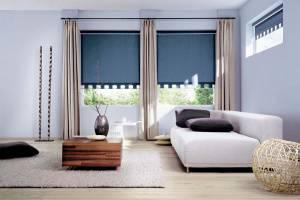window: (78, 31, 223, 138)
